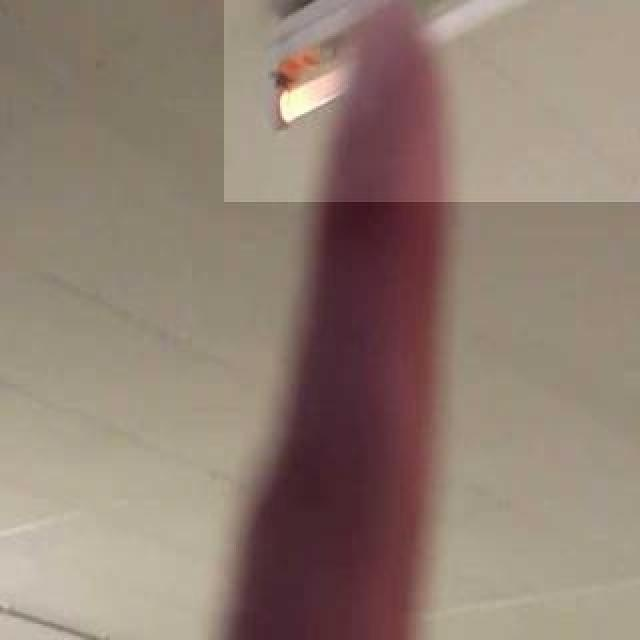fluorescent tube: (208, 0, 640, 176)
